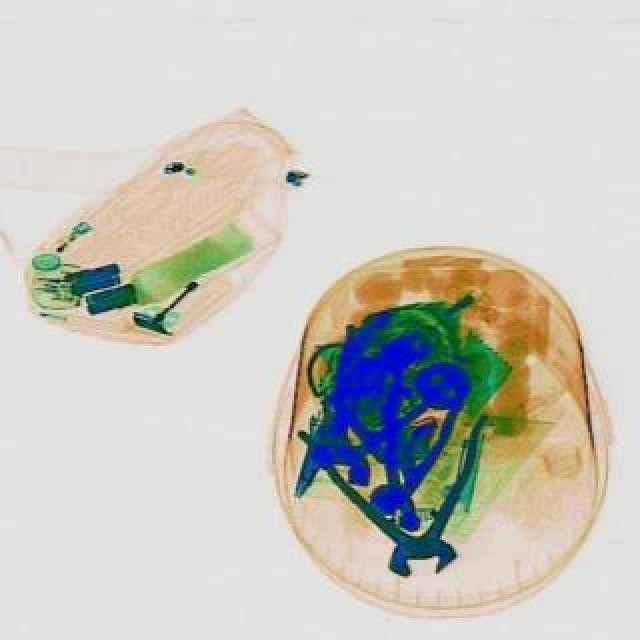wrench: (296, 416, 502, 588)
